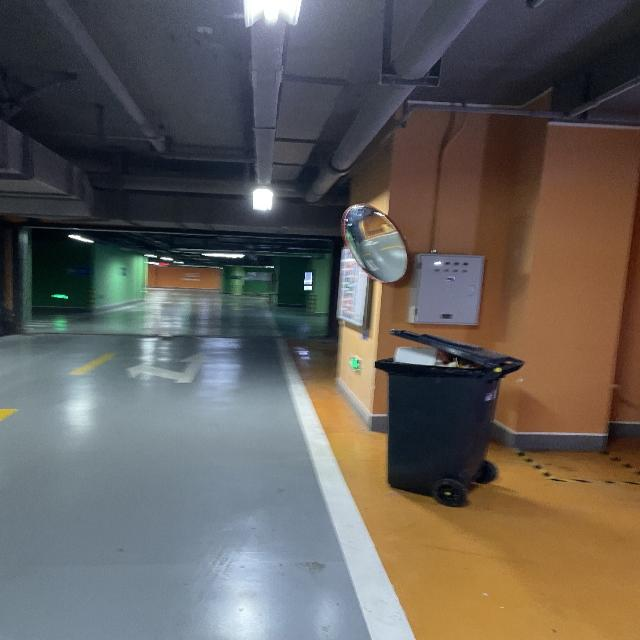overflow: (372, 329, 525, 496)
